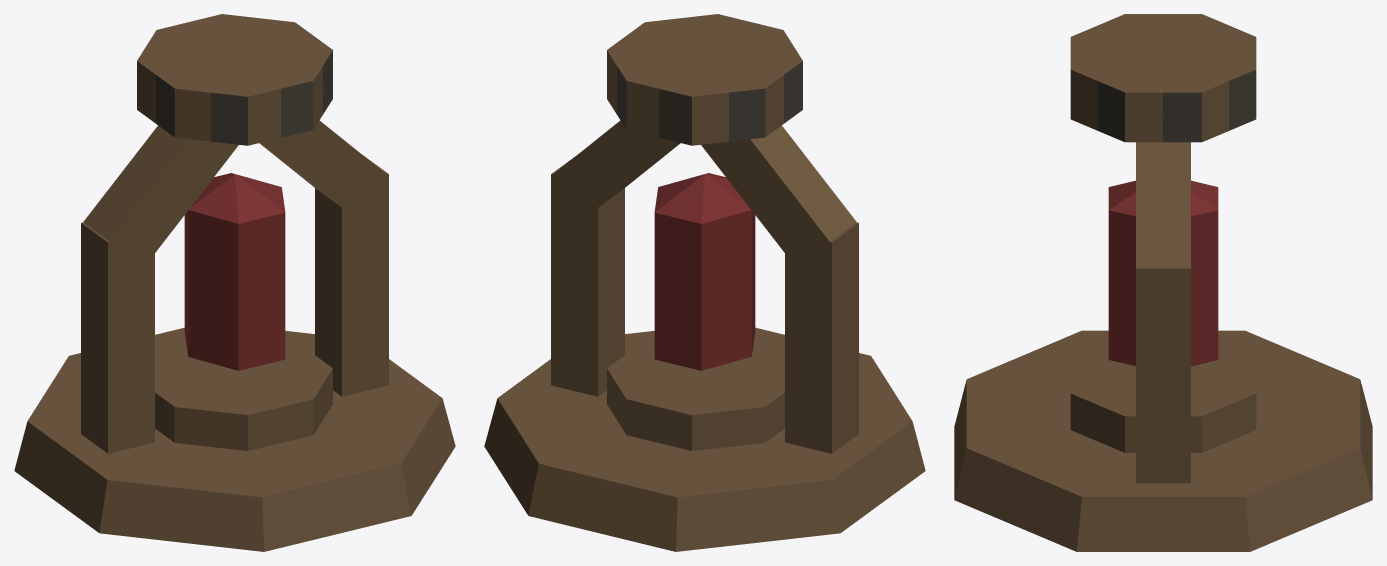
Rendered from sprinkler.glb.
3 views of the same model, side by side, from view 1: azimuth 30°, elevation 25°; view 2: azimuth 150°, elevation 25°; view 3: azimuth 270°, elevation 25° (orthographic).
Visible parts, largest first — view 1: Gray6, Gray6.001, cuboid, Gray5, cuboid.001, cylinder, cuboid.002, sphere.001, cuboid.004, sphere; view 2: Gray6, Gray6.001, cuboid, Gray5, cuboid.001, cylinder, cuboid.002, sphere.001, cuboid.004, sphere; view 3: Gray6, Gray6.001, cuboid.001, Gray5, cylinder, cuboid.004, sphere.001, sphere.
Boxes of the visible parts, bbox=[...] form: Gray6: bbox=[14, 327, 455, 551]; Gray6.001: bbox=[137, 14, 332, 145]; cuboid: bbox=[81, 222, 154, 453]; Gray5: bbox=[155, 339, 332, 450]; cuboid.001: bbox=[315, 156, 388, 396]; cylinder: bbox=[184, 210, 285, 370]; cuboid.002: bbox=[83, 125, 238, 260]; sphere.001: bbox=[184, 173, 285, 272]; cuboid.004: bbox=[259, 120, 386, 207]; sphere: bbox=[184, 284, 284, 369]; Gray6: bbox=[484, 327, 925, 551]; Gray6.001: bbox=[607, 14, 802, 145]; cuboid: bbox=[785, 222, 858, 453]; Gray5: bbox=[607, 339, 784, 450]; cuboid.001: bbox=[551, 156, 624, 396]; cylinder: bbox=[654, 210, 755, 370]; cuboid.002: bbox=[701, 125, 856, 267]; sphere.001: bbox=[654, 173, 755, 272]; cuboid.004: bbox=[553, 120, 680, 214]; sphere: bbox=[655, 284, 755, 370]; Gray6: bbox=[954, 330, 1372, 551]; Gray6.001: bbox=[1070, 14, 1256, 142]; cuboid.001: bbox=[1136, 267, 1190, 483]; Gray5: bbox=[1070, 345, 1256, 452]; cylinder: bbox=[1108, 210, 1218, 365]; cuboid.004: bbox=[1136, 142, 1190, 267]; sphere.001: bbox=[1108, 180, 1218, 265]; sphere: bbox=[1108, 310, 1218, 366].
Bounding box in the file's own units: 7.61 × 8.23 × 7.61.
Materials: 3 (3 with a texture image).
